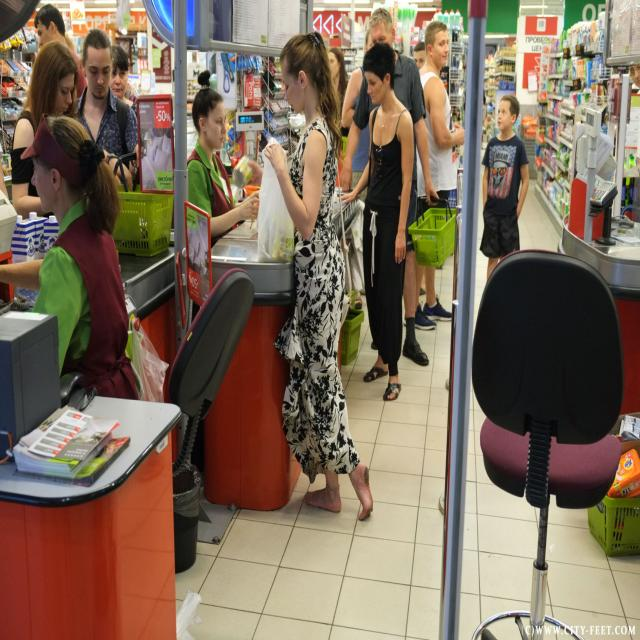Barefoots: (355, 462, 373, 520), (305, 487, 342, 512)
